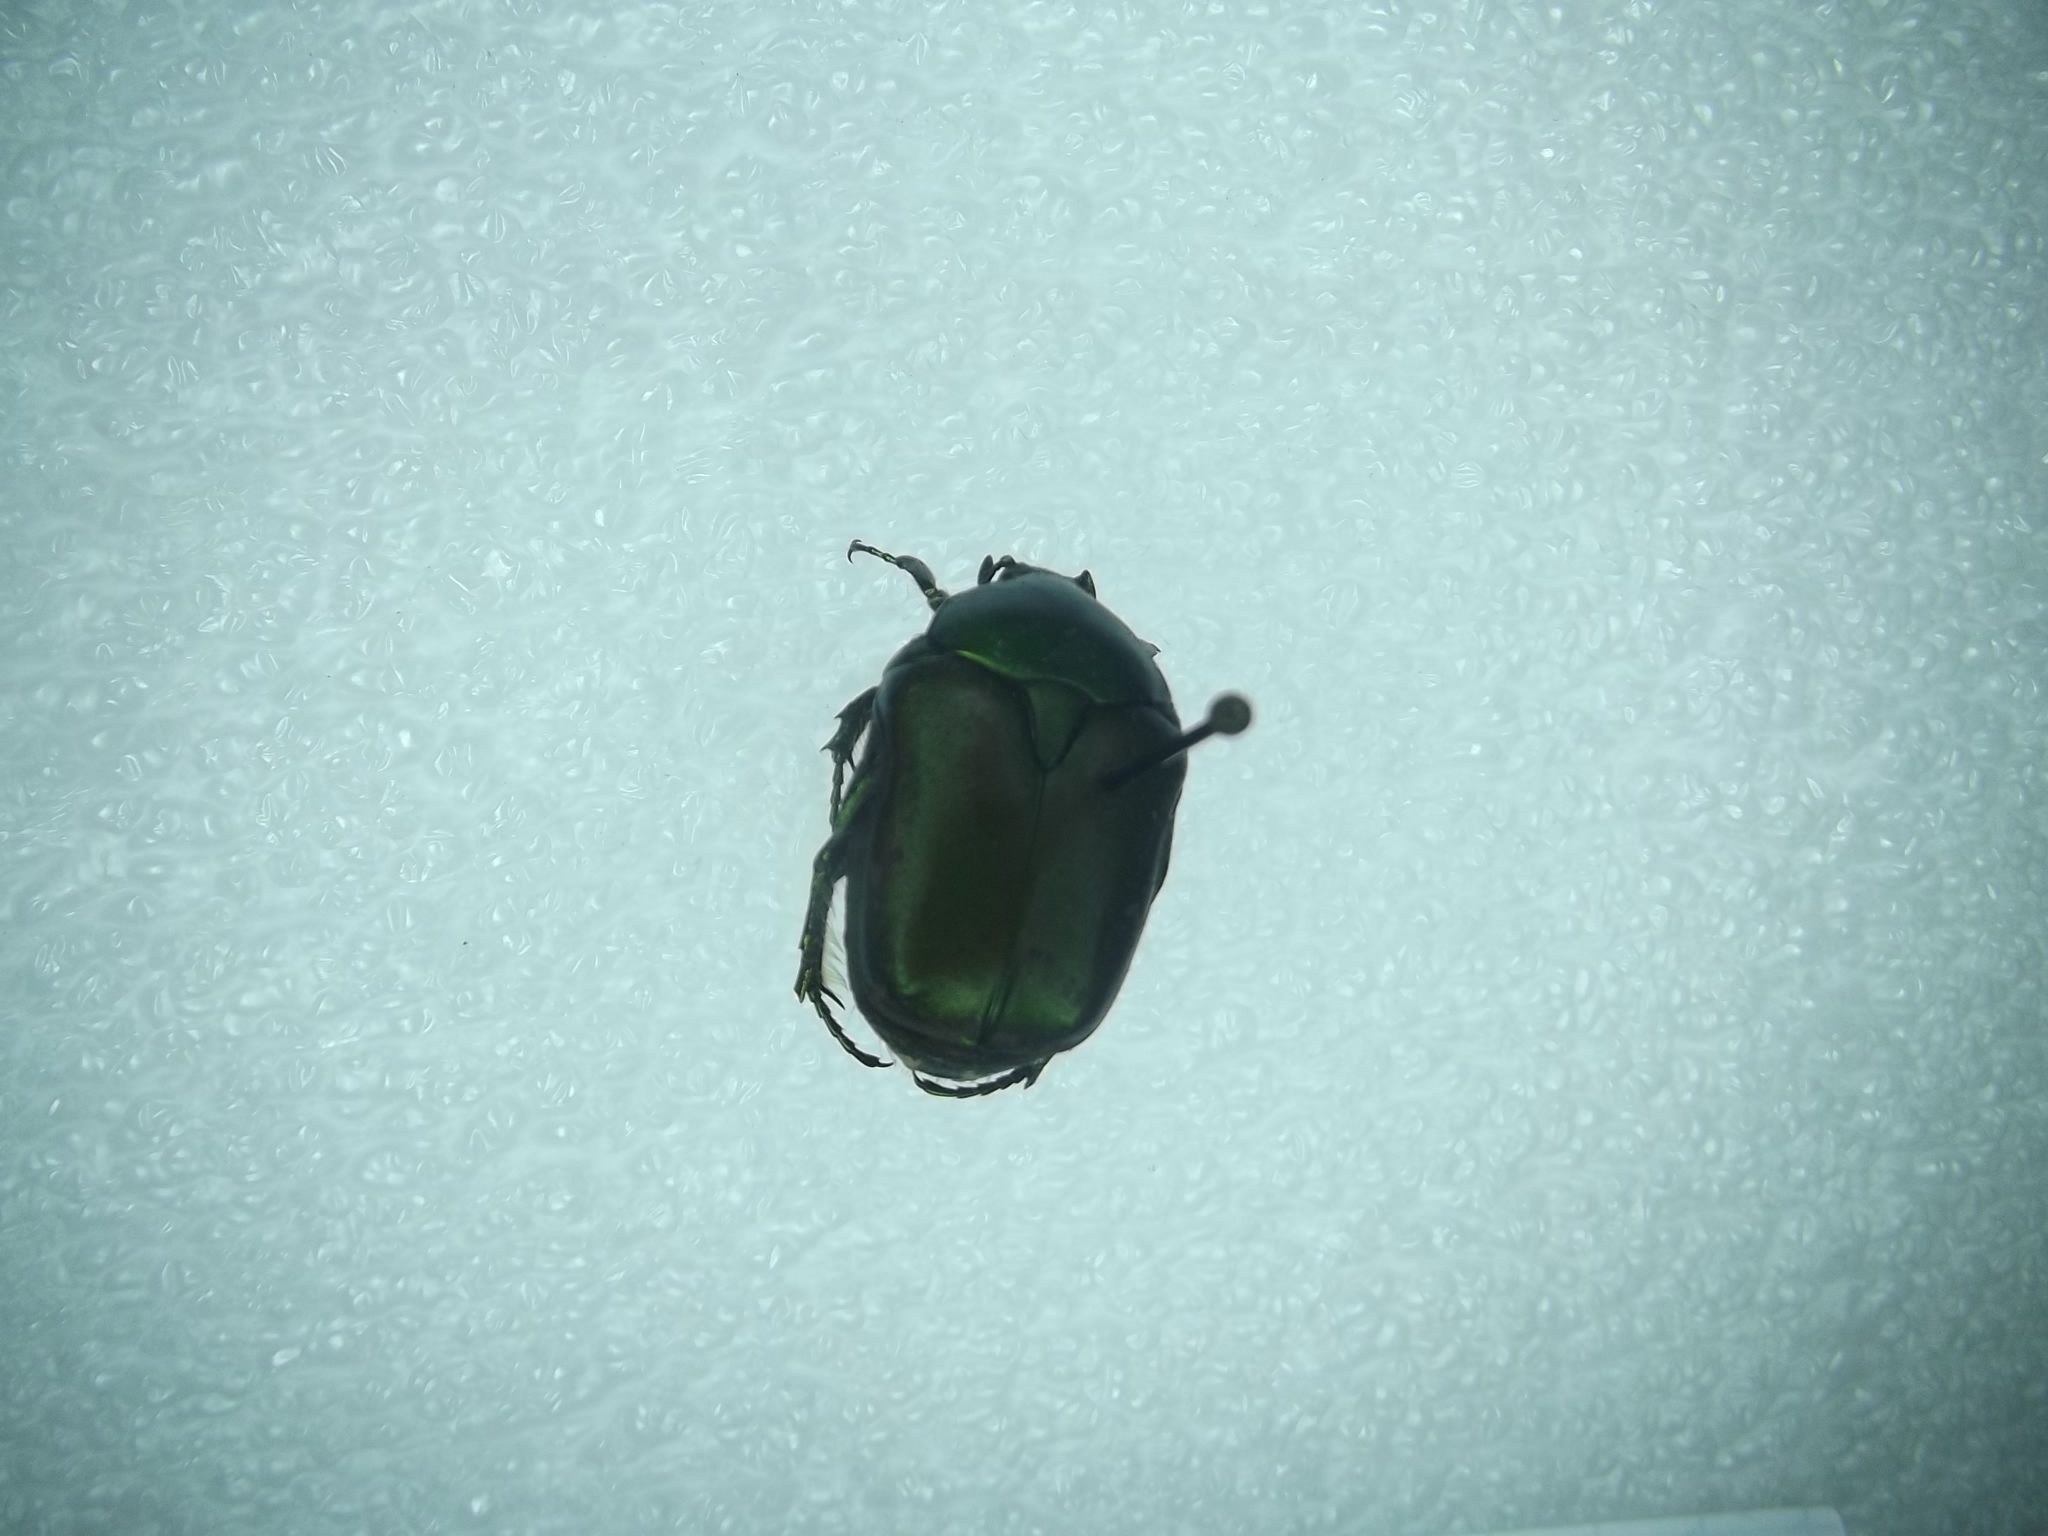Protaetia_ungarica: (766, 520, 1193, 1107)
